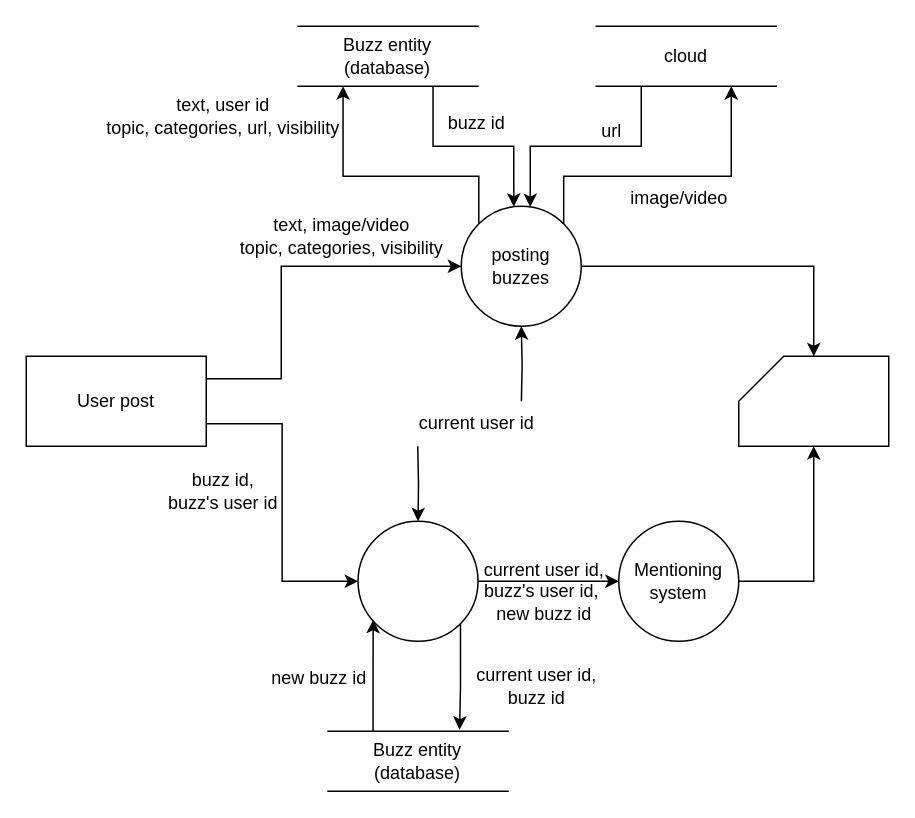
Image size: 915x818. Some labels were removed from this diagram. The centre of each missing label's shape, as x and y in pixels:
display on the buzz page: the point at 813,400
Rebuzz: the point at 417,580
